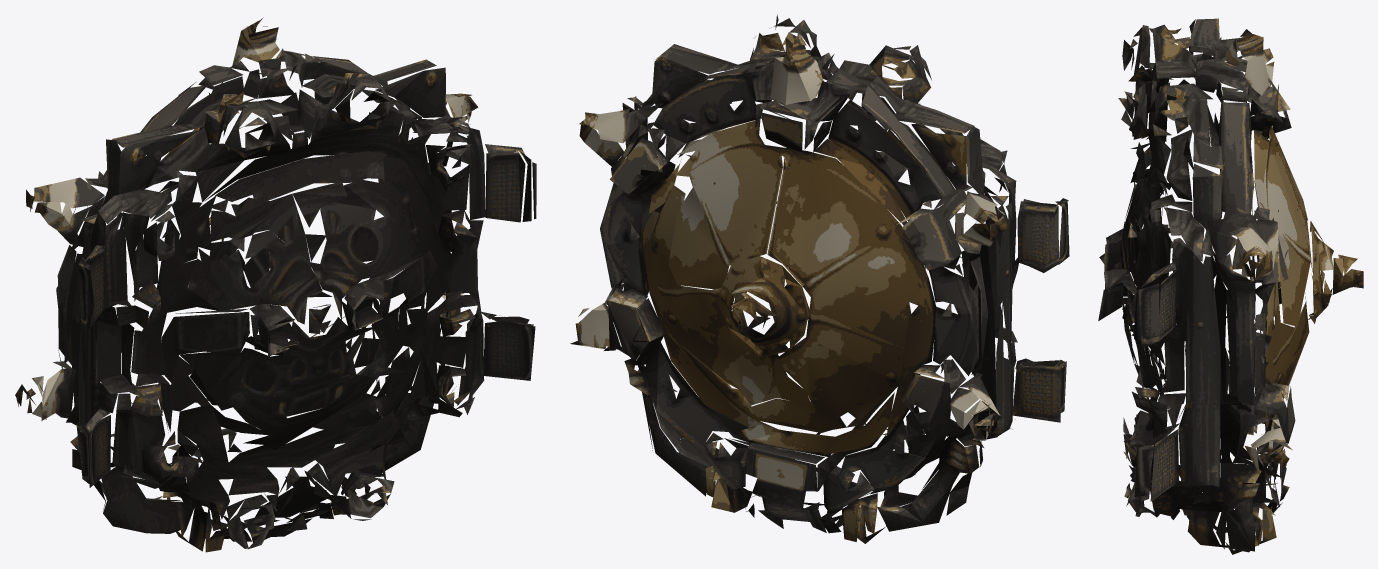
File: mo_aegis.glb
The picture shows the model from 3 angles, left to right: view 1: azimuth 30°, elevation 25°; view 2: azimuth 150°, elevation 25°; view 3: azimuth 270°, elevation 25°; orthographic projection. The views are drawn at different scales.
Parts seen in each view (by area): view 1: mo_aegis; view 2: mo_aegis; view 3: mo_aegis.
Boxes of the visible parts, <box> form: mo_aegis: <box>15,17,536,552</box>; mo_aegis: <box>570,14,1069,543</box>; mo_aegis: <box>1098,18,1363,554</box>.
Size of the model in its own units: 0.1827 by 0.2 by 0.0946.
1 material, 1 textured.
